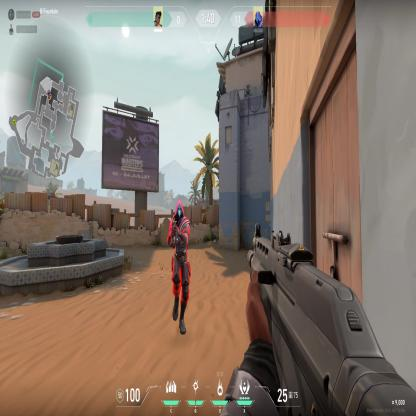enemy: (165, 198, 192, 336)
